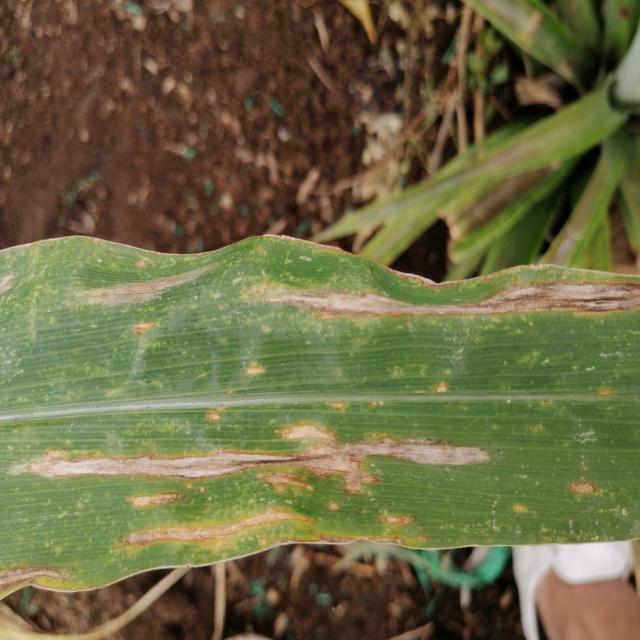Corn_Leaf_Blight: (4, 236, 640, 603)
